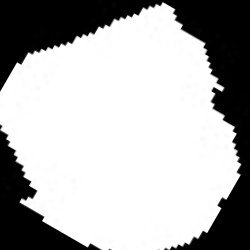spot: (0, 5, 239, 248)
